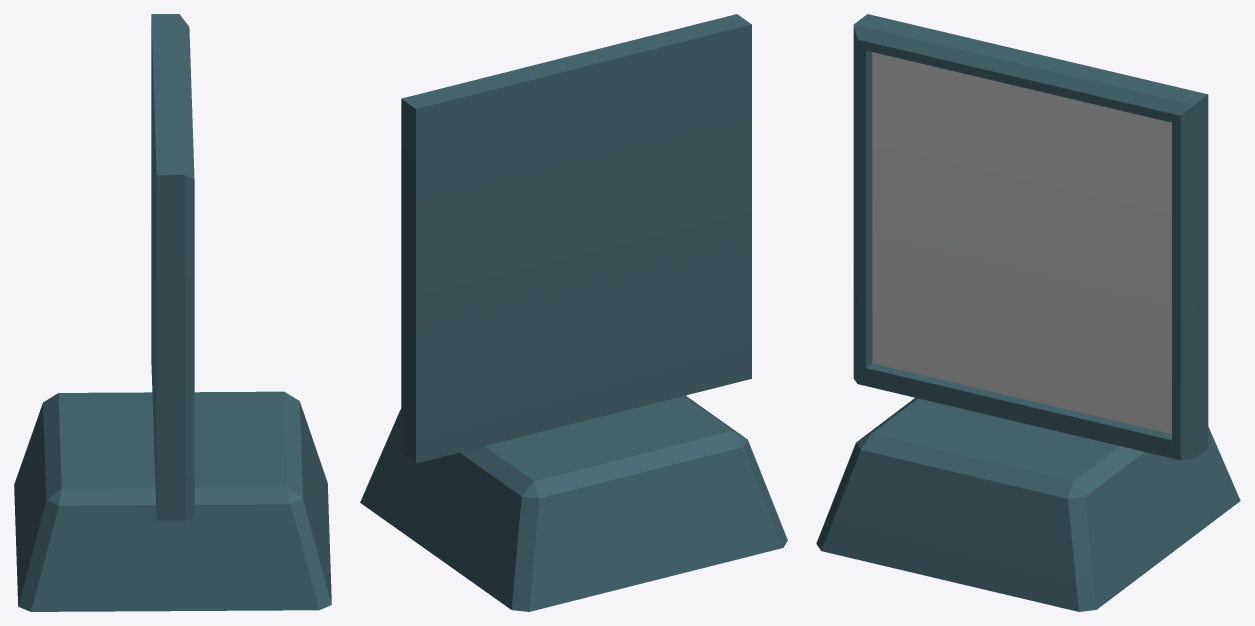
File: computer.glb
3 renders of one model, left to right at view 1: azimuth 30°, elevation 25°; view 2: azimuth 150°, elevation 25°; view 3: azimuth 270°, elevation 25°, orthographic. The views are drawn at different scales.
Parts seen in each view (by area): view 1: Computer.001; view 2: Computer.001; view 3: Computer.001.
Part boxes in pixels (x1,y1,x2,y2): Computer.001: (14, 14, 331, 611); Computer.001: (360, 14, 787, 611); Computer.001: (816, 14, 1240, 611).
Bounding box in the file's own units: 0.2375 × 0.2846 × 0.2375.
1 material, 1 textured.
